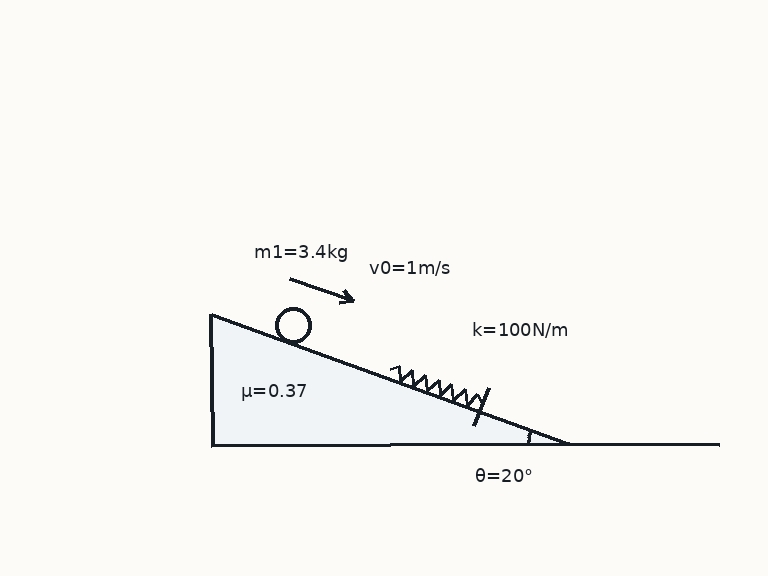ball: (273, 305, 313, 345)
ramp: (210, 312, 570, 446)
spring: (387, 363, 484, 407)
